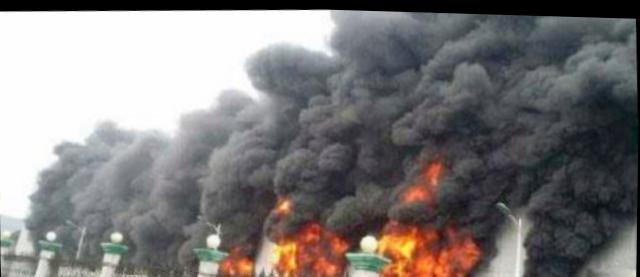fire: (378, 217, 482, 276), (281, 223, 348, 272), (224, 248, 258, 276), (405, 178, 434, 198), (429, 152, 446, 180), (278, 195, 292, 211)
